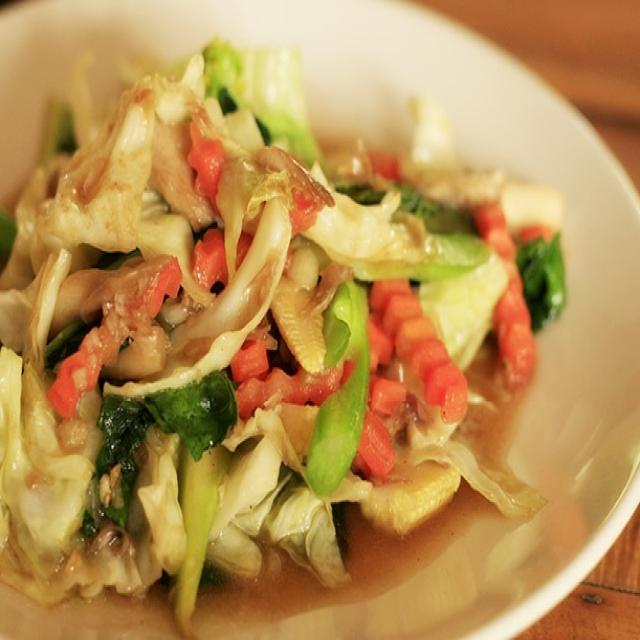蔬菜料理: (5, 24, 608, 629)
